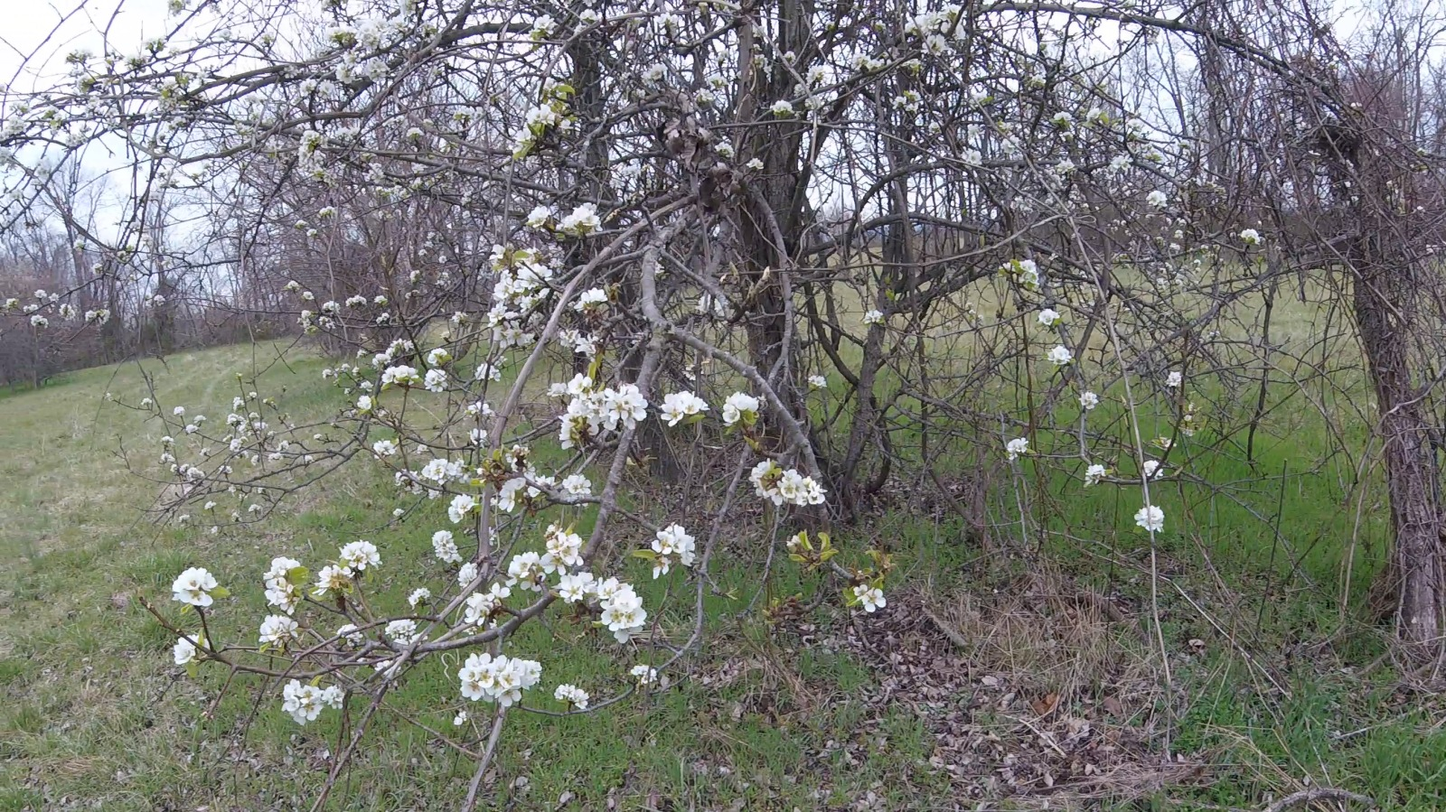flower: (457, 528, 653, 650), (323, 0, 425, 88), (548, 373, 649, 450), (458, 641, 542, 712), (749, 458, 828, 509), (313, 540, 383, 596), (488, 262, 545, 327), (282, 679, 346, 726), (915, 0, 967, 56), (263, 557, 300, 616), (652, 522, 696, 566), (172, 567, 219, 607), (659, 391, 710, 427), (1135, 487, 1165, 541), (259, 611, 303, 646), (771, 84, 819, 114), (492, 320, 536, 352), (422, 459, 474, 486), (557, 203, 603, 232), (297, 131, 324, 177), (842, 43, 885, 71), (557, 330, 599, 358), (723, 392, 759, 424), (498, 478, 529, 513), (300, 76, 341, 102), (432, 530, 463, 564), (448, 494, 479, 526), (506, 123, 537, 154), (853, 585, 887, 612), (523, 462, 560, 486), (514, 288, 549, 313), (460, 391, 495, 416), (555, 685, 590, 710), (0, 116, 32, 142), (574, 288, 608, 312), (526, 100, 557, 126), (386, 620, 418, 645), (381, 366, 419, 387), (474, 358, 505, 382), (657, 7, 692, 28), (959, 147, 992, 169), (525, 206, 552, 232), (520, 257, 553, 278), (854, 311, 883, 334), (746, 145, 772, 170), (425, 369, 452, 393), (405, 108, 427, 137), (529, 14, 559, 35), (1104, 154, 1134, 175), (342, 630, 366, 656), (62, 124, 89, 147), (1075, 105, 1103, 127), (563, 474, 592, 495), (325, 624, 357, 643), (489, 243, 515, 266), (174, 638, 196, 665), (806, 60, 827, 87), (371, 441, 398, 462), (641, 62, 669, 82), (648, 556, 671, 580), (361, 658, 393, 675), (1238, 225, 1265, 245), (631, 665, 658, 685), (1005, 438, 1028, 461), (407, 588, 431, 610), (458, 563, 478, 589), (1000, 139, 1023, 161), (372, 346, 396, 367), (1019, 260, 1039, 285), (1047, 345, 1072, 365), (1055, 157, 1077, 179), (1125, 117, 1146, 140), (809, 363, 828, 388), (1147, 191, 1168, 213), (953, 11, 967, 41), (715, 140, 737, 158), (969, 85, 988, 105), (1038, 309, 1060, 326), (427, 349, 447, 367), (1079, 392, 1099, 410), (1050, 112, 1075, 126), (467, 429, 488, 445), (695, 88, 718, 102), (579, 10, 603, 23), (1086, 464, 1106, 479), (454, 706, 469, 725), (905, 13, 917, 36), (1165, 372, 1182, 387), (1144, 461, 1160, 476), (890, 96, 907, 109), (358, 396, 371, 410), (559, 119, 574, 131), (409, 633, 424, 645), (1150, 469, 1163, 482), (529, 487, 541, 498), (187, 635, 200, 644), (521, 582, 532, 591), (888, 105, 892, 112), (679, 5, 685, 9), (561, 212, 564, 219)
